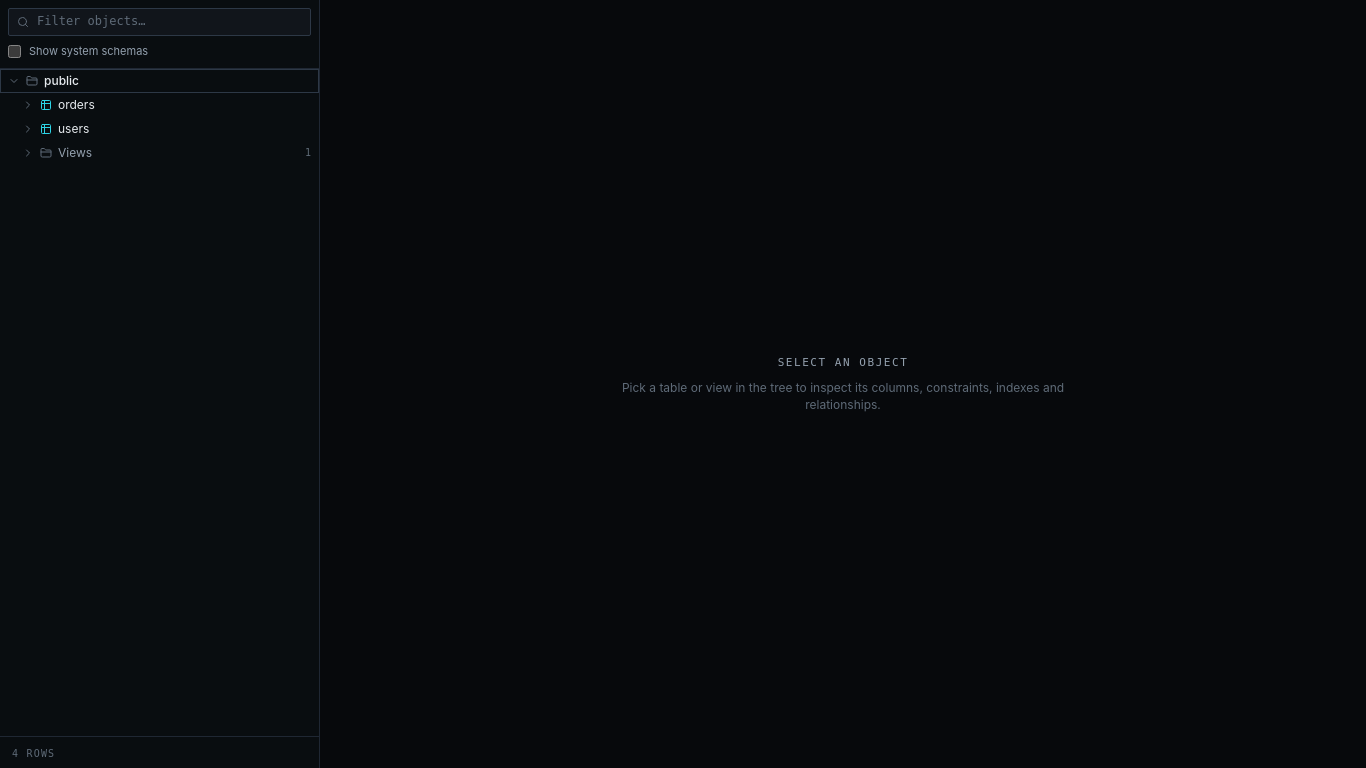
Test: Explorer › filters the tree with fuzzy search and reports empty results
Type "email" into the field labelled "Filter objects". click: (170, 22)
box: x1=37 y1=13 x2=302 y2=31
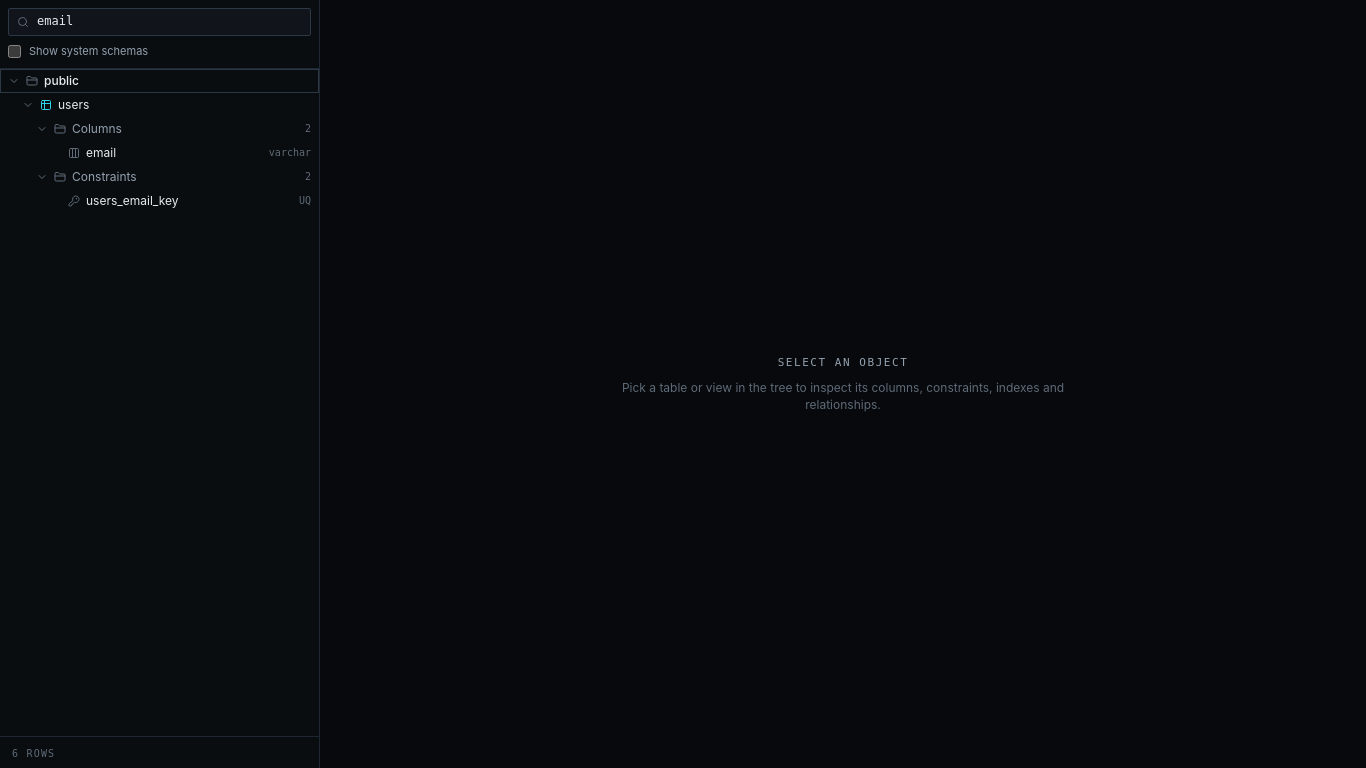
Check: the text "orders" is gone
Check: the text "users" is shown, box x1=58 y1=96 x2=89 y2=114
Check: the text "email" is shown, box x1=86 y1=144 x2=116 y2=162
Replace the text in the field named "Filter objects" with "zzzzzz". click: (170, 22)
box: x1=37 y1=13 x2=302 y2=31
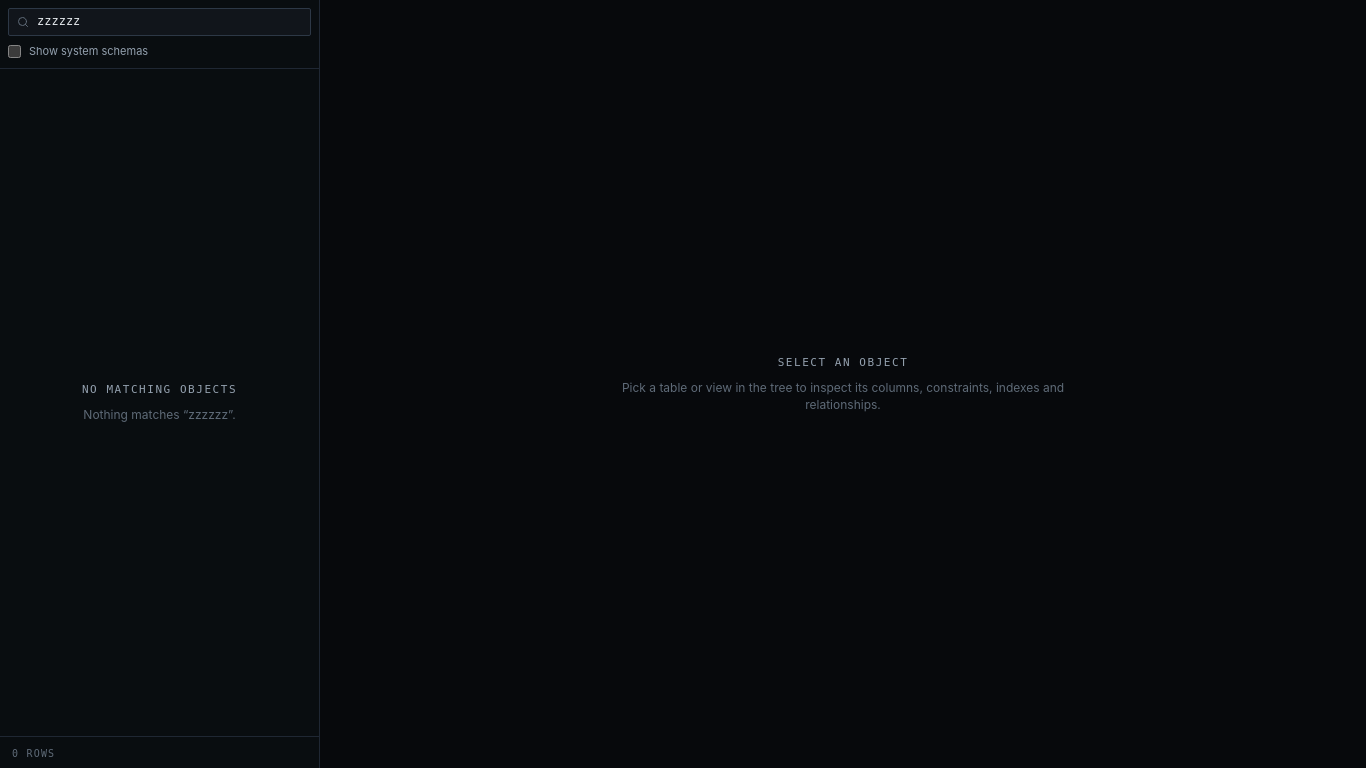
Check: the text "No matching objects" is shown, box x1=82 y1=382 x2=237 y2=398
